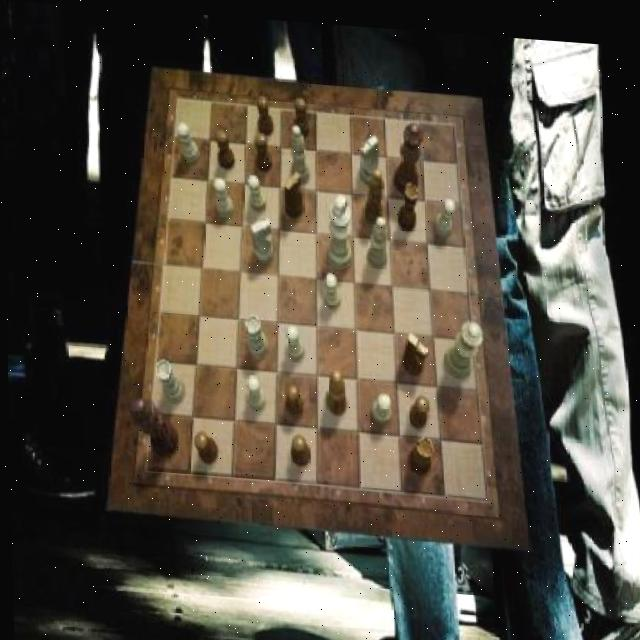bishop: (362, 163, 383, 218), (325, 365, 345, 412)
black-bishop: (130, 395, 179, 456)
black-king: (402, 325, 427, 370), (283, 167, 303, 216)
black-knight: (192, 429, 216, 463), (406, 388, 428, 423), (215, 128, 234, 167), (257, 92, 275, 133), (254, 128, 272, 168), (289, 430, 309, 464), (294, 94, 311, 133), (284, 379, 302, 415)
black-pawn: (393, 115, 424, 191)
black-queen: (396, 177, 418, 227), (407, 430, 434, 470)
black-rook: (290, 120, 310, 180), (365, 212, 387, 266)
white-bishop: (326, 188, 352, 267)
white-king: (359, 128, 380, 180), (250, 213, 273, 260)
white-knight: (177, 121, 200, 163), (433, 191, 455, 231), (212, 175, 232, 215), (245, 371, 264, 408), (247, 171, 266, 208), (284, 321, 303, 357), (369, 387, 390, 419), (323, 268, 340, 305)
white-pawn: (442, 312, 483, 372)
white-queen: (154, 356, 184, 401), (243, 311, 267, 356)
